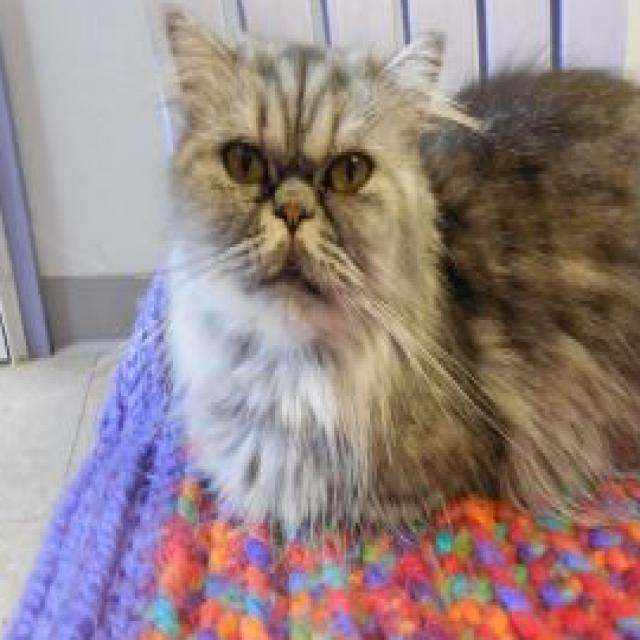Persian: (154, 0, 640, 539)
